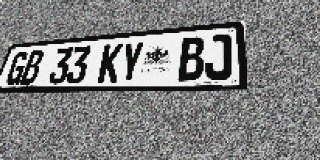3: (65, 46, 92, 84), (47, 47, 74, 84)
B: (178, 36, 205, 81), (19, 50, 45, 85)
G: (4, 51, 30, 85)
J: (205, 34, 232, 80)
K: (97, 43, 124, 83)
Y: (118, 41, 145, 82)
